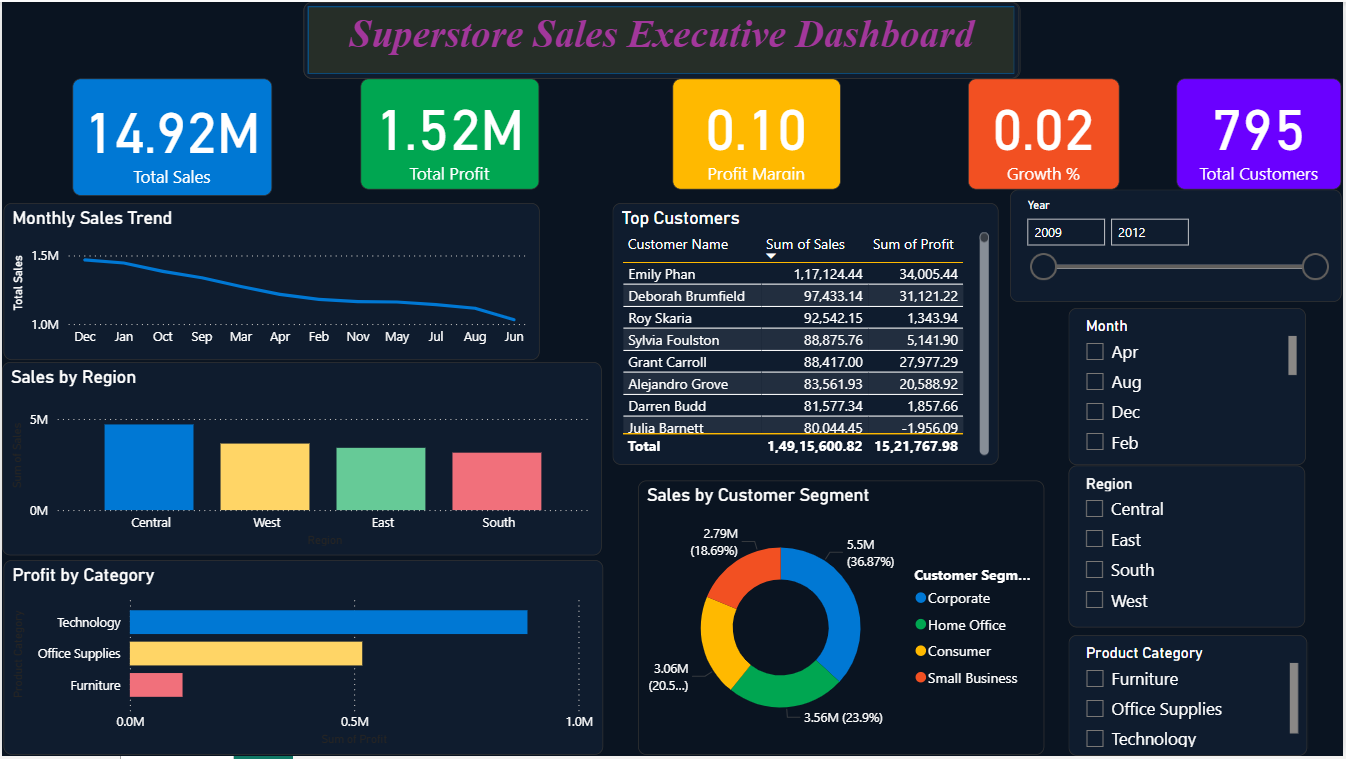

Layout of this report page (visuals, bound fields, positions):
{"tool":"powerbi","page":{"name":"Page 1","canvas":[1280,720],"ordinal":0},"visuals":[{"type":"card","fields":{"Values":["Orders.Total Sales"]},"box":[67.3,73.1,190.5,111.7],"z":0},{"type":"card","fields":{"Values":["Orders.Total Profit"]},"box":[342.3,73.1,170.5,106],"z":1000},{"type":"card","fields":{"Values":["Orders.Profit Margin"]},"box":[640.3,73.1,160.4,106],"z":2000},{"type":"card","fields":{"Values":["Orders.Growth %"]},"box":[922.5,73.1,144.7,106],"z":3000},{"type":"card","fields":{"Values":["Orders.Total Customers"]},"box":[1122,72.7,157.5,106],"z":4000},{"type":"lineChart","title":"Monthly Sales Trend","fields":{"Category":["Orders.Month"],"Y":["Orders.Total Sales"]},"box":[1.5,192.3,511.8,149.9],"z":5000},{"type":"clusteredColumnChart","title":"Sales by Region","fields":{"Category":["Orders.Region"],"Y":["Sum(Orders.Sales)"]},"box":[0,343.7,572.4,184.7],"z":6000},{"type":"clusteredBarChart","title":"Profit by Category","fields":{"Y":["Sum(Orders.Profit)"],"Category":["Orders.Product Category"]},"box":[1.5,533,572.4,186.2],"z":7000},{"type":"tableEx","title":"Top Customers","fields":{"Values":["Orders.Customer Name","Sum(Orders.Sales)","Sum(Orders.Profit)"]},"box":[583.3,192.5,368.9,250.2],"z":8000},{"type":"donutChart","title":"Sales by Customer Segment","fields":{"Category":["Orders.Customer Segment"],"Y":["Sum(Orders.Sales)"]},"box":[607.3,456.9,388.2,262.1],"z":9000},{"type":"slicer","fields":{"Values":["Orders.Year"]},"box":[963,178.7,316.5,107.5],"z":10000},{"type":"slicer","fields":{"Values":["Orders.Month"]},"box":[1018.1,292,227,150],"z":11000},{"type":"slicer","fields":{"Values":["Orders.Region"]},"box":[1018.4,442.6,226.3,154.7],"z":12000},{"type":"slicer","fields":{"Values":["Orders.Product Category"]},"box":[1018.1,603.9,228.3,115.5],"z":13000},{"type":"textbox","box":[287.9,0,684.7,73.1],"z":14000},{"type":"shape","box":[287.9,0,683.3,73.1],"z":15000}]}

Visuals, with their boxes in screenshot pixels (x1, y1, x2, y2), scaled from the page's 1280x720 canvas onto the 1346x759 screenshot:
card - Orders.Total Sales: 71,77,271,195
card - Orders.Total Profit: 360,77,539,189
card - Orders.Profit Margin: 673,77,842,189
card - Orders.Growth %: 970,77,1122,189
card - Orders.Total Customers: 1180,77,1345,188
"Monthly Sales Trend" lineChart: 2,203,540,361
"Sales by Region" clusteredColumnChart: 0,362,602,557
"Profit by Category" clusteredBarChart: 2,562,603,758
"Top Customers" tableEx: 613,203,1001,467
"Sales by Customer Segment" donutChart: 639,482,1047,758
slicer - Orders.Year: 1013,188,1345,302
slicer - Orders.Month: 1071,308,1309,466
slicer - Orders.Region: 1071,467,1309,630
slicer - Orders.Product Category: 1071,637,1311,758
textbox: 303,0,1023,77
shape: 303,0,1021,77
